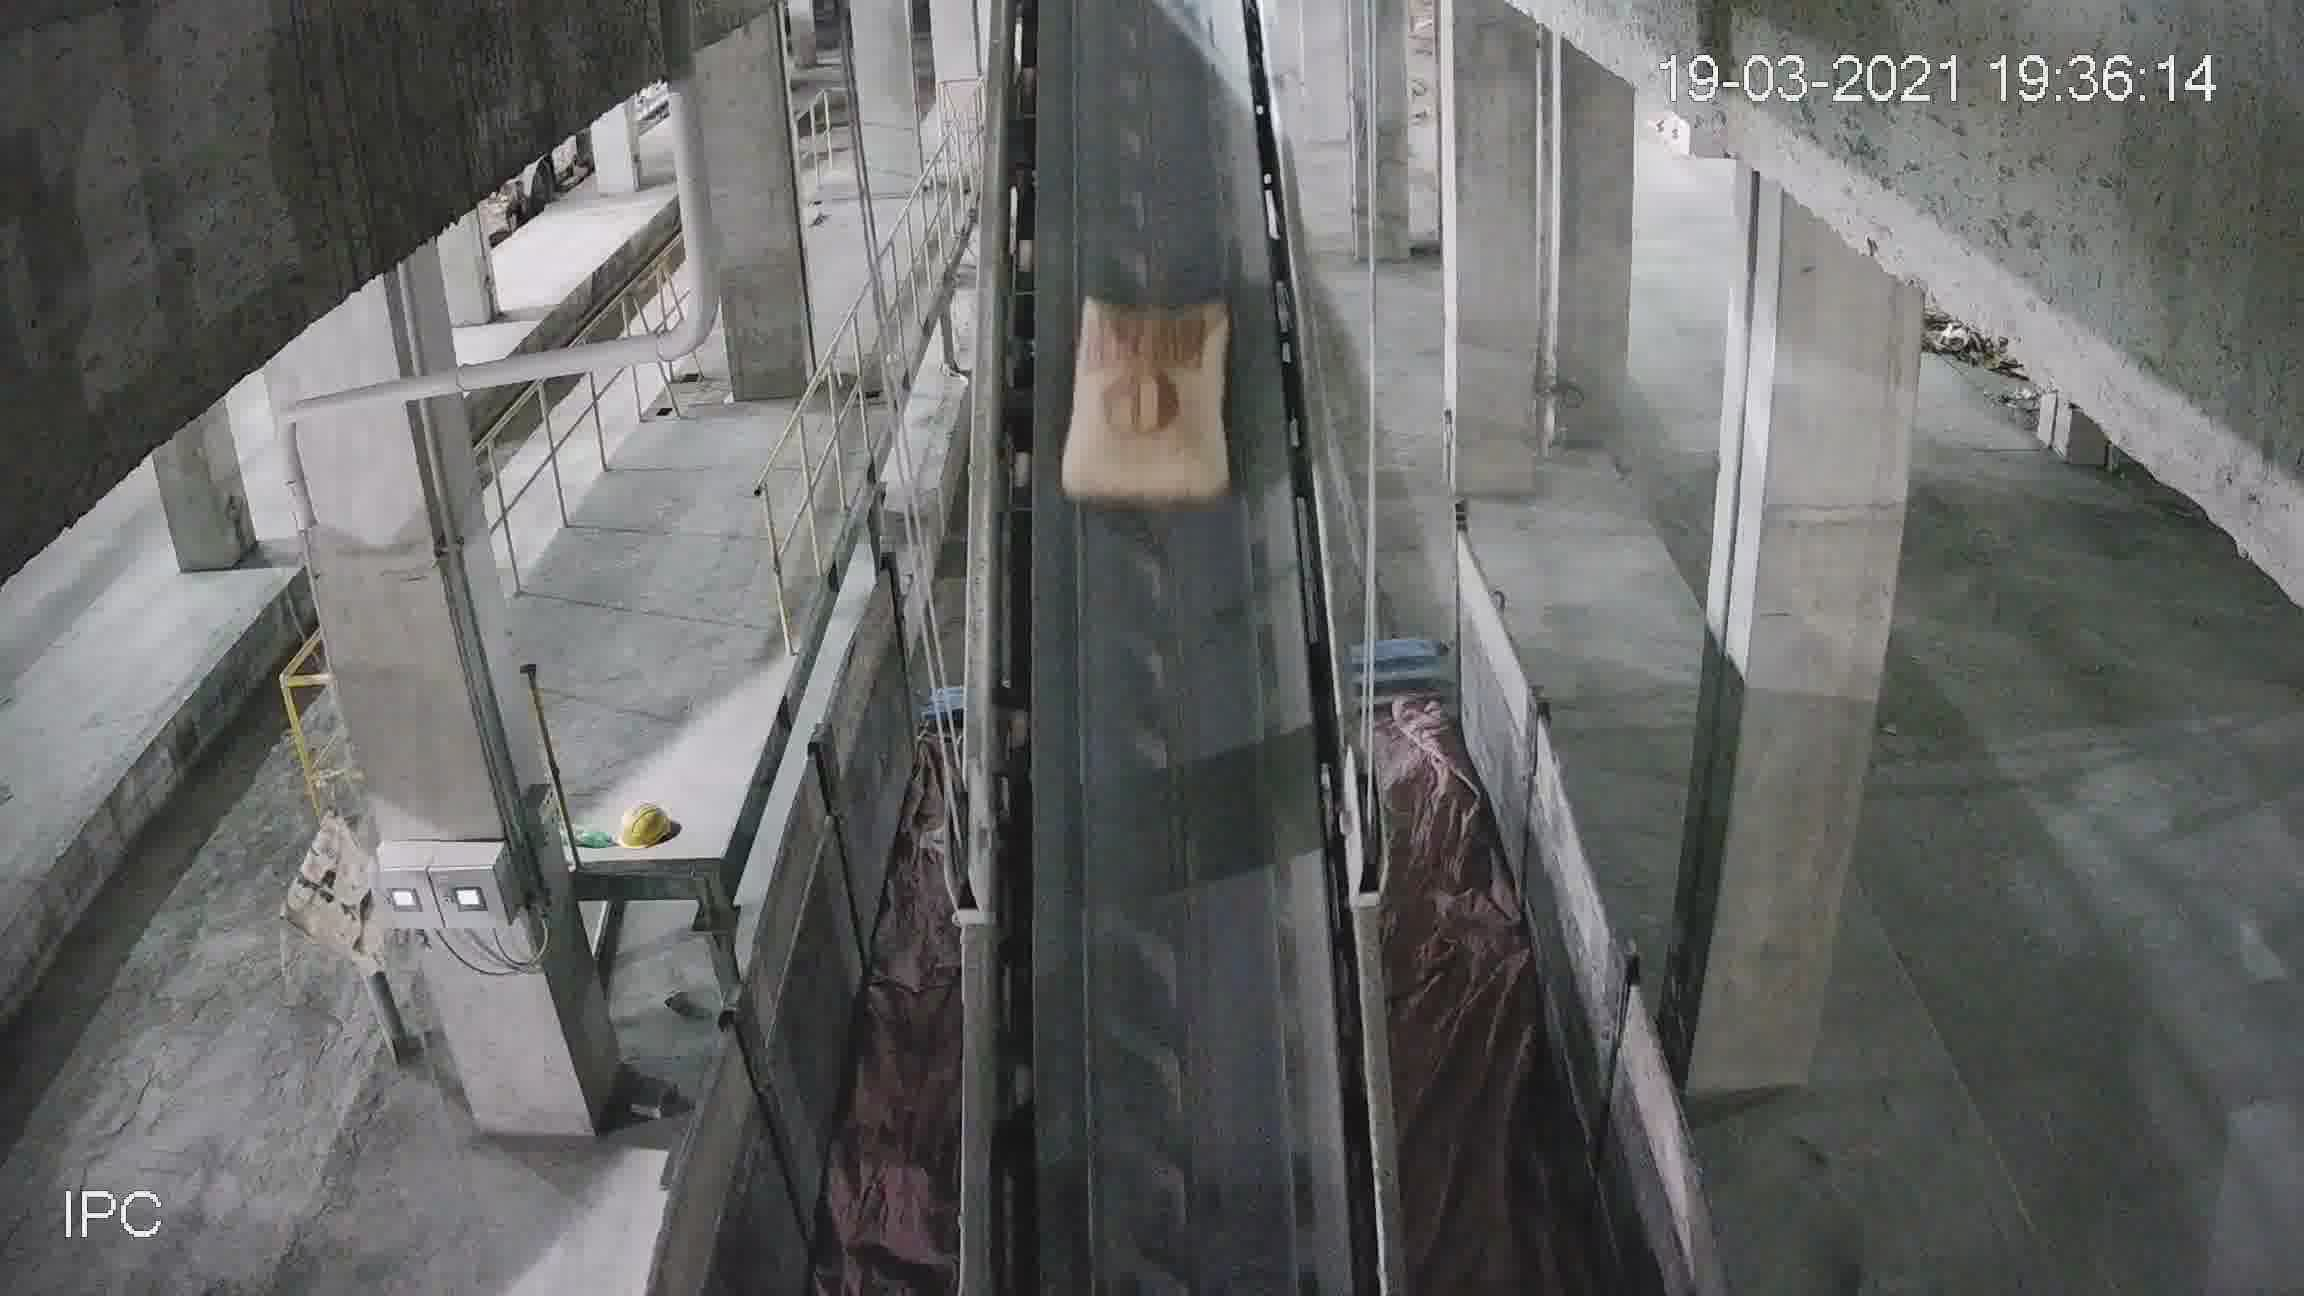bag: (1070, 302, 1225, 508)
belt: (953, 76, 1372, 1266)
